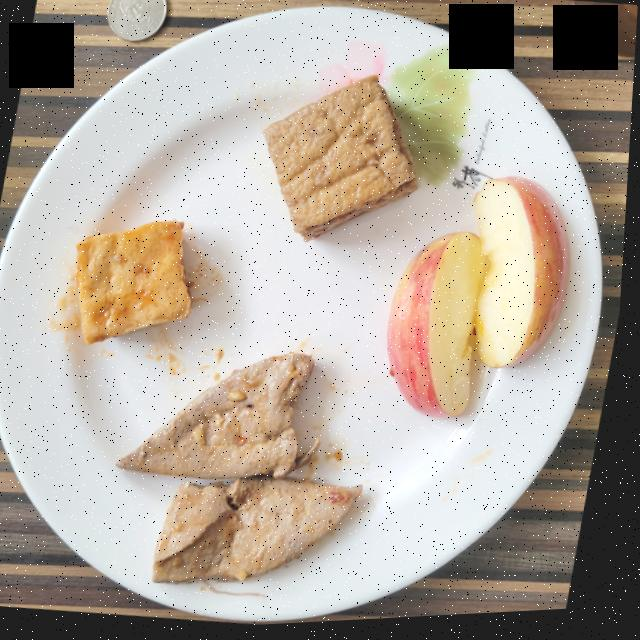apple -sliced-: (392, 181, 573, 421)
coin: (107, 0, 167, 41)
creamy tofu: (79, 221, 195, 344)
egg tofu: (265, 78, 419, 243)
pig liver: (122, 354, 368, 584)
